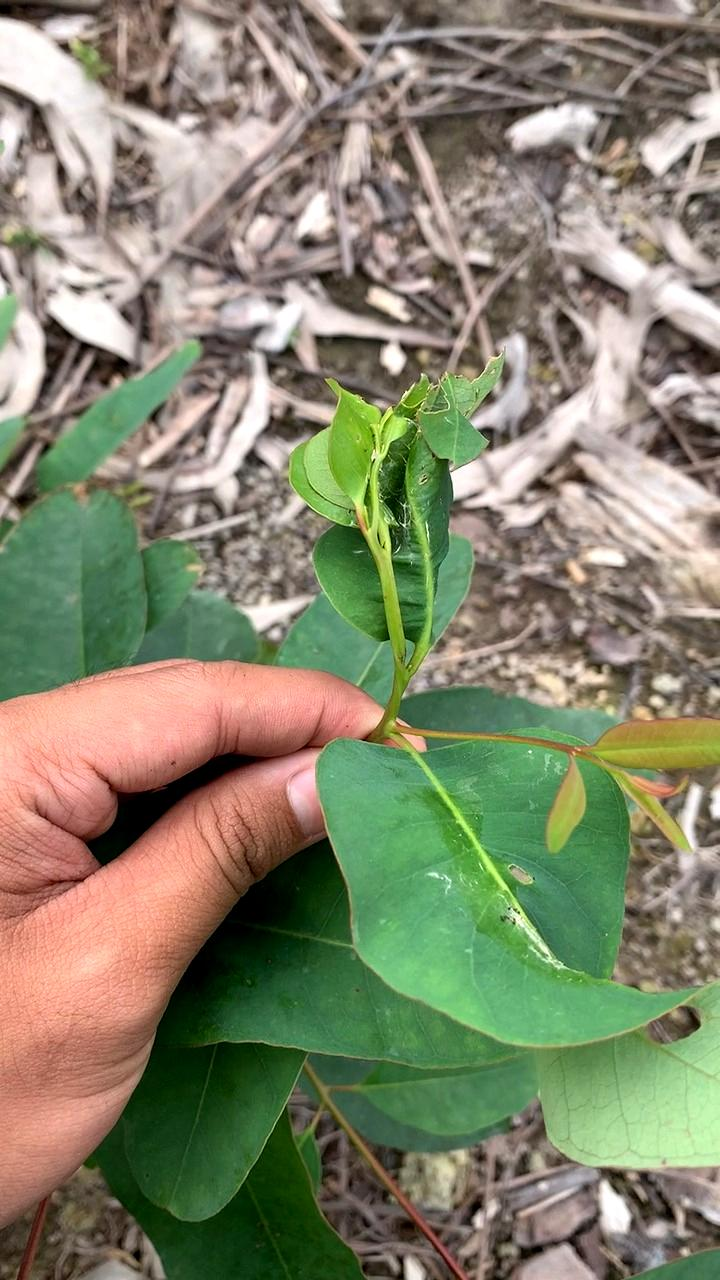Leaf Roller - Leaf: (303, 376, 509, 632)
